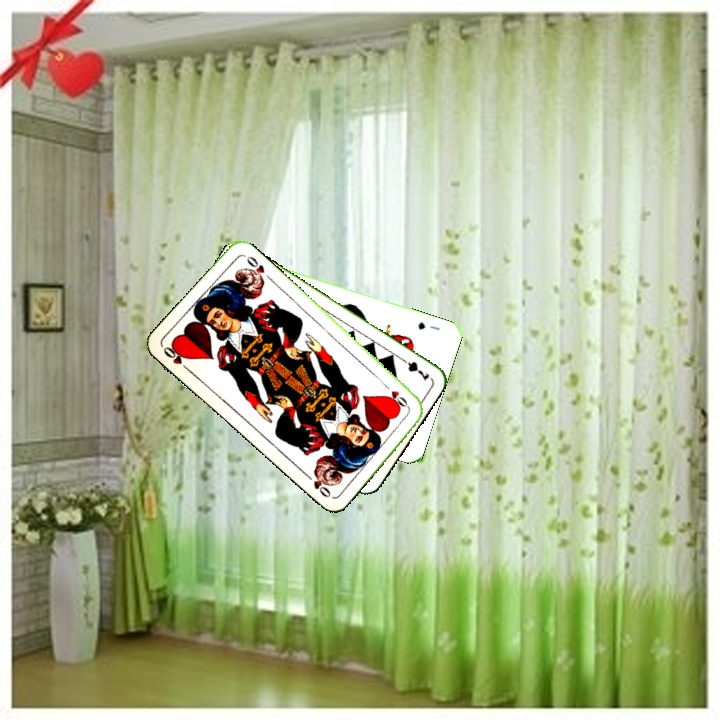G7: (396, 353, 432, 383)
GU: (414, 318, 442, 333)
HO: (159, 340, 192, 374), (379, 380, 412, 412)
